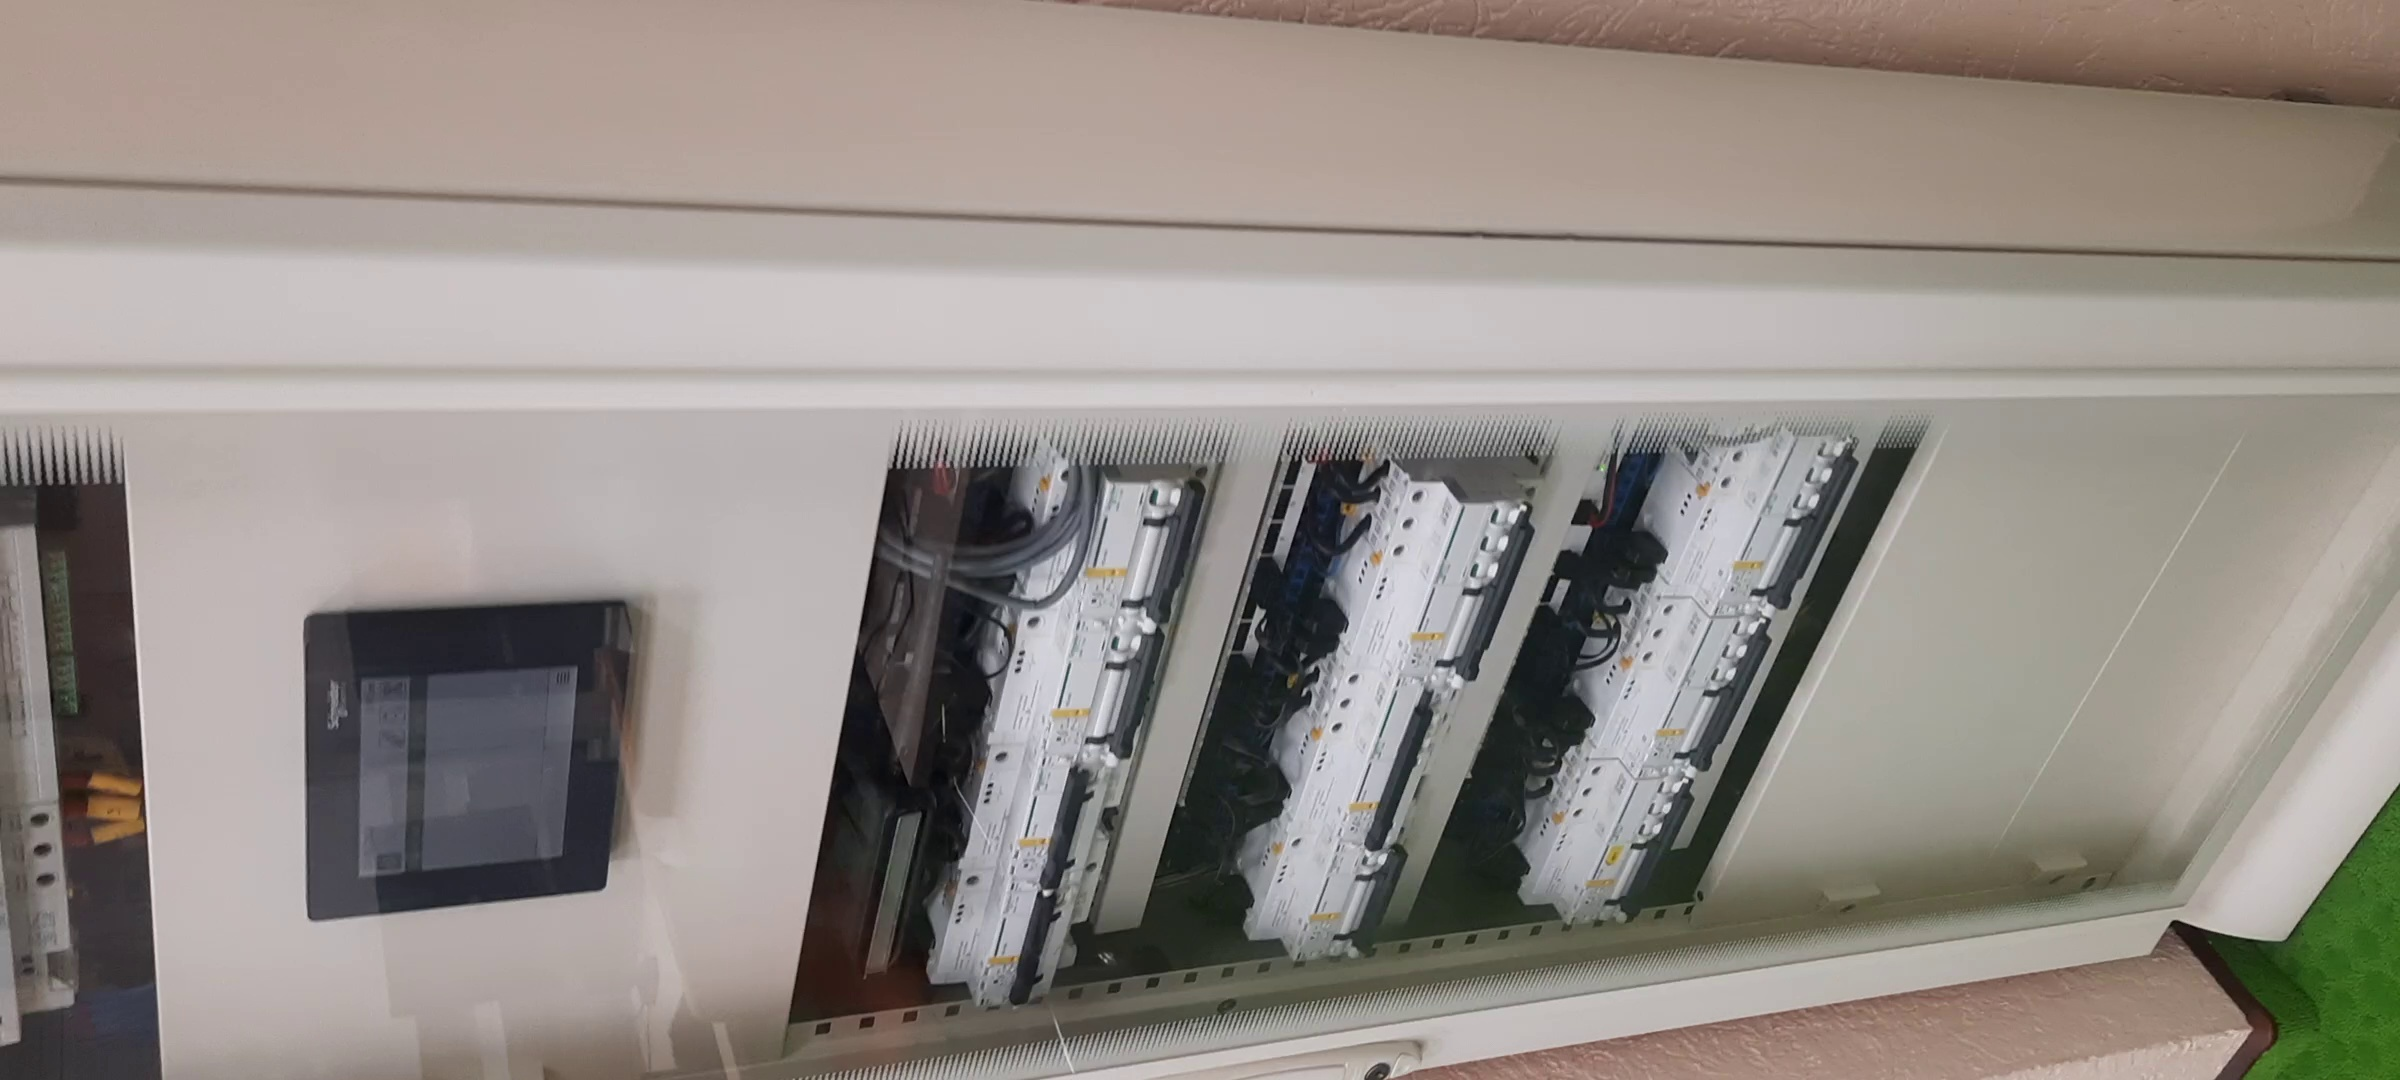smart_stand: (2, 190, 2391, 1080)
